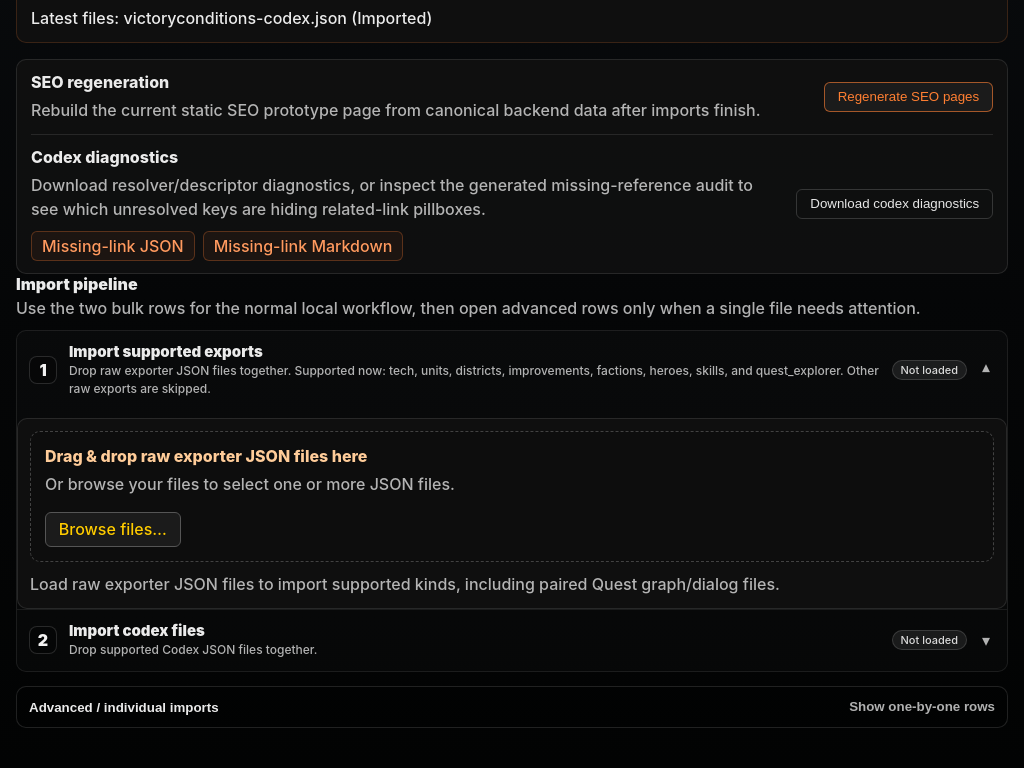
it: AdminImportPage › keeps individual import rows available in the advanced section
(page scrolled)
Expected: the text "Use the two bulk rows for the normal local workflow" is shown, top-left (16, 298), bottom-right (921, 318)
Click the button "Advanced / individual imports Show one-by-one rows" at (124, 707), box top-left (16, 686), bottom-right (1008, 728)
(page scrolled)
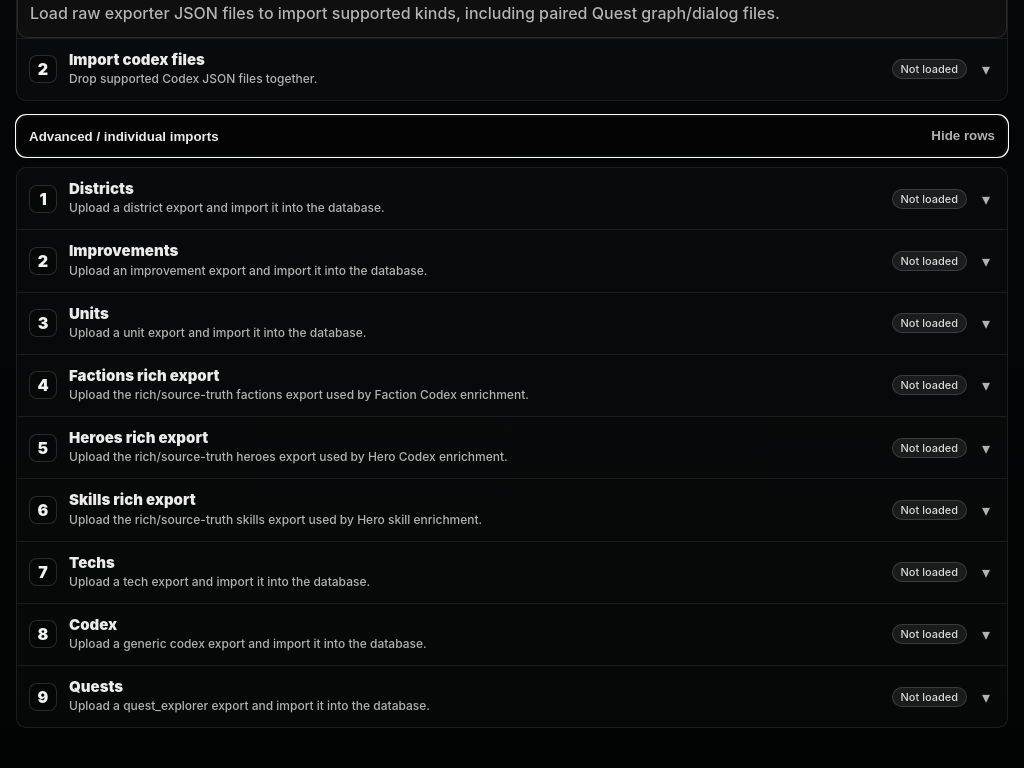
Now the text "Districts" is shown, box top-left (69, 179), bottom-right (134, 198)
Now the text "Improvements" is shown, box top-left (69, 241), bottom-right (178, 260)
Now the text "Units" is shown, box top-left (69, 304), bottom-right (109, 322)
